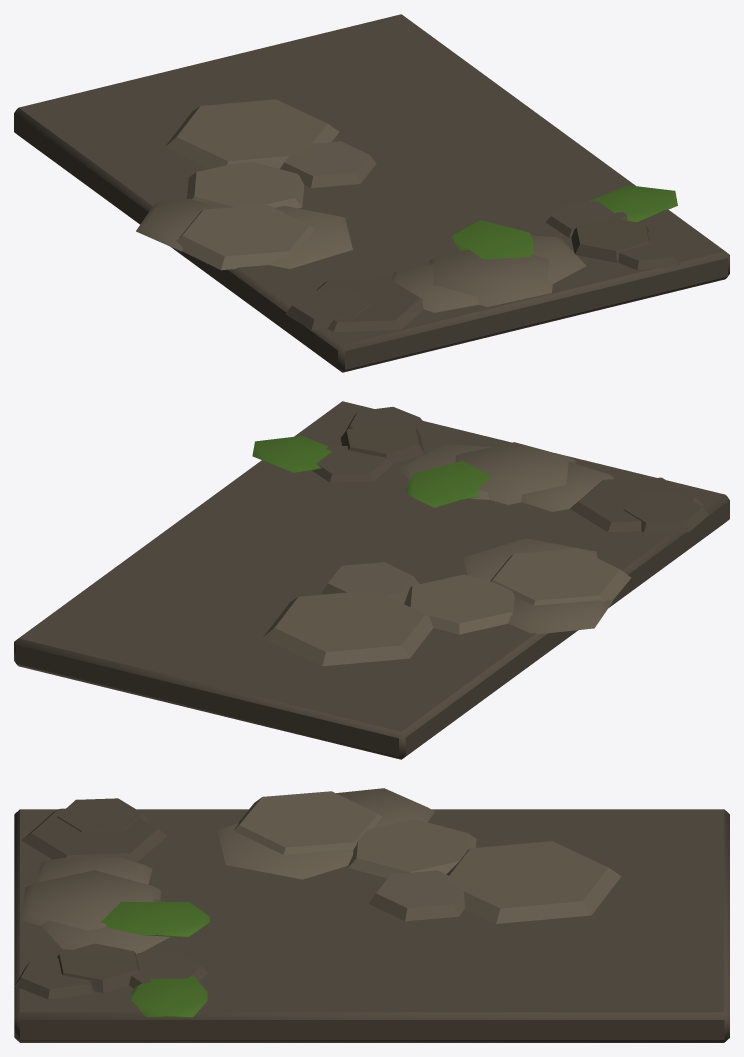
The model's file is cv_wurzel_hall.glb.
3 renders of one model, top to bottom at view 1: azimuth 30°, elevation 25°; view 2: azimuth 150°, elevation 25°; view 3: azimuth 270°, elevation 25°, orthographic. The views are drawn at different scales.
Parts seen in each view (by area): view 1: body; view 2: body; view 3: body.
Boxes of the visible parts, box(x1,y1,x2,y2) form: body: box(14, 14, 729, 372); body: box(14, 401, 729, 759); body: box(14, 788, 729, 1042).
Bounding box in the file's own units: 4.93 × 0.3994 × 6.4.
